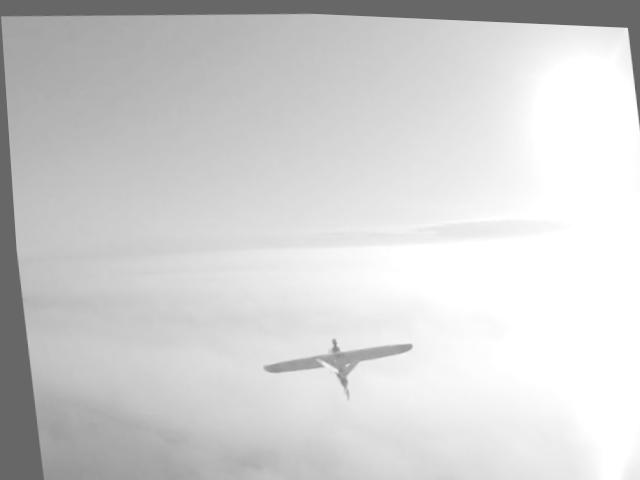hedef: (253, 314, 417, 406)
